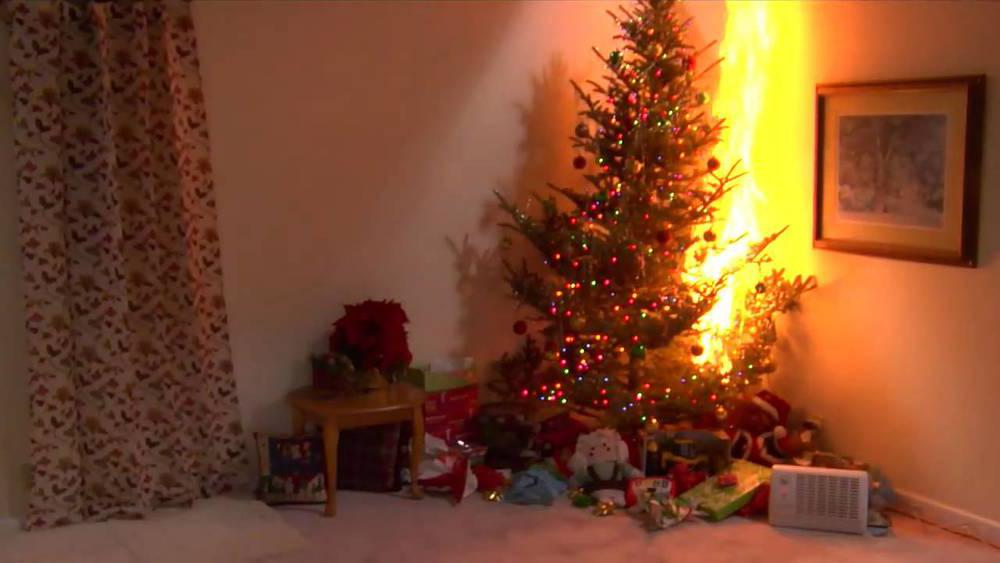fire: (678, 1, 838, 392)
